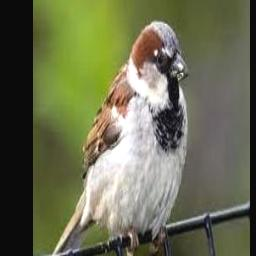Sparrow: (43, 21, 188, 256)
